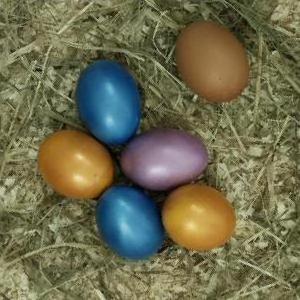egg: (175, 21, 251, 102), (119, 130, 210, 193), (77, 60, 141, 145), (39, 131, 116, 199), (96, 186, 163, 259), (161, 185, 235, 249)
